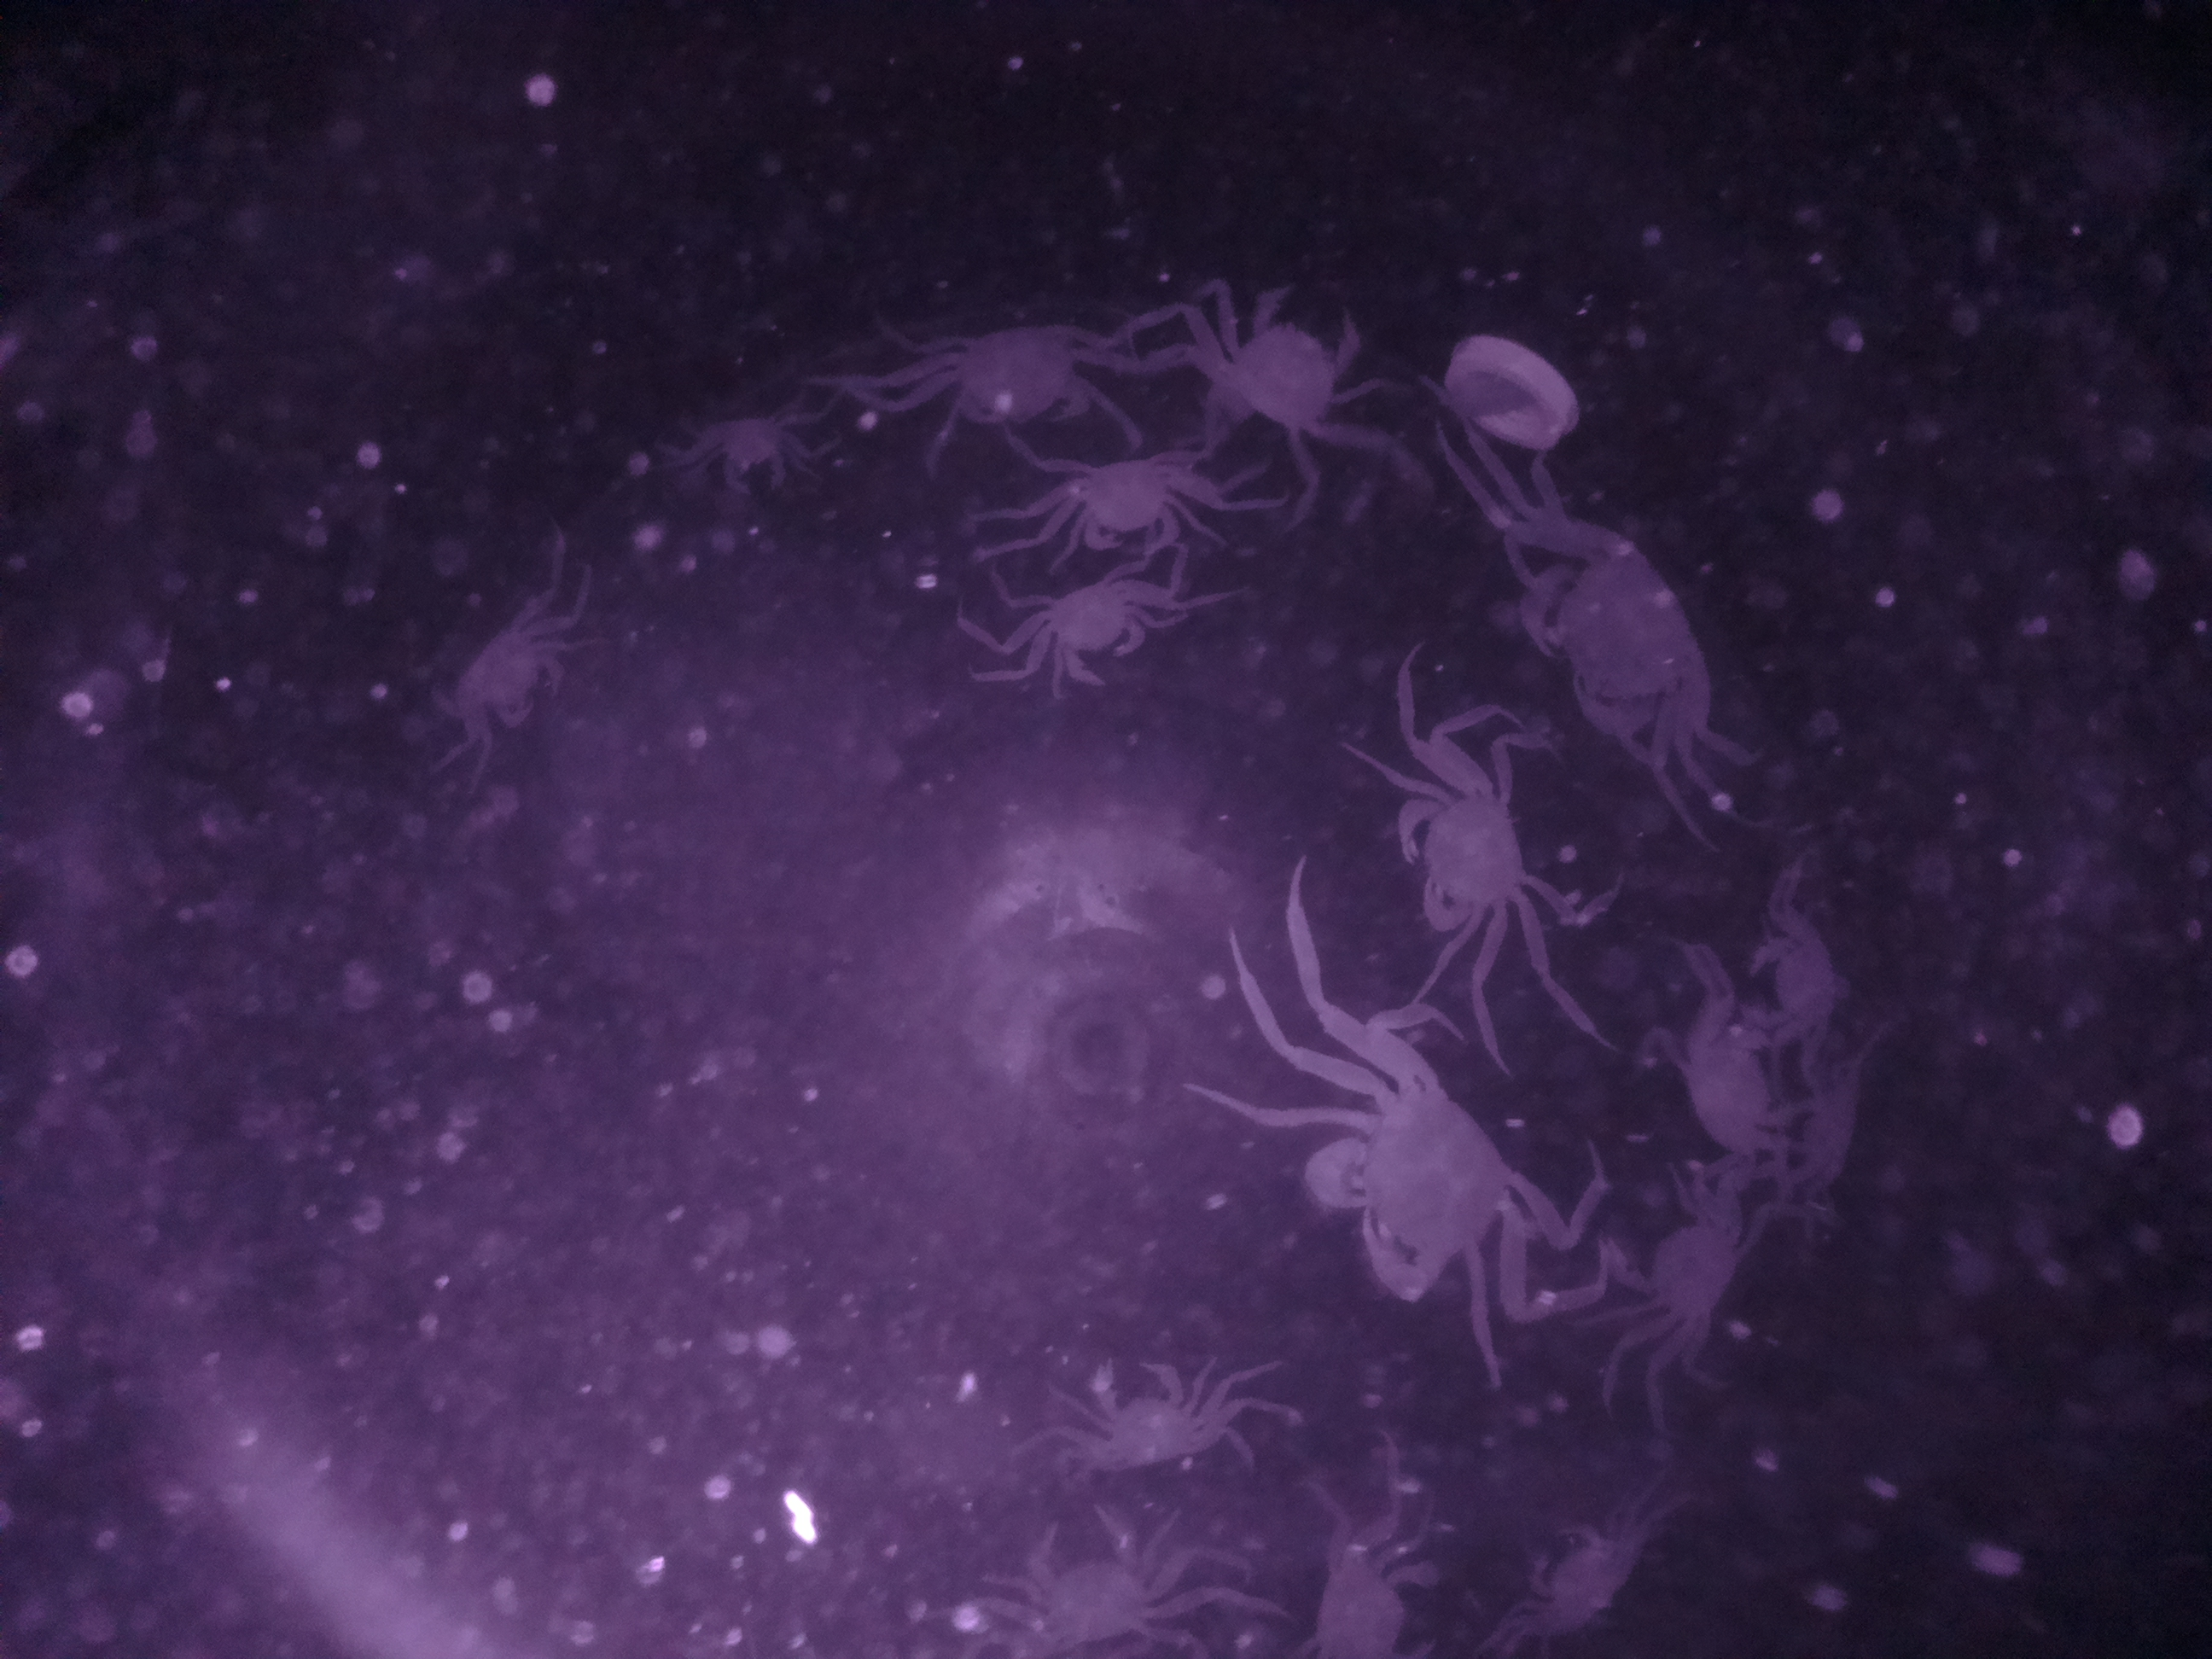Crab: (1299, 1033, 1534, 1326), (1512, 502, 1726, 763), (1588, 1159, 1747, 1380), (1383, 746, 1536, 964), (989, 1497, 1177, 1659), (1200, 272, 1369, 451), (918, 308, 1148, 436), (435, 605, 583, 751), (1071, 1345, 1223, 1488), (1033, 443, 1205, 565), (1019, 565, 1162, 701)
